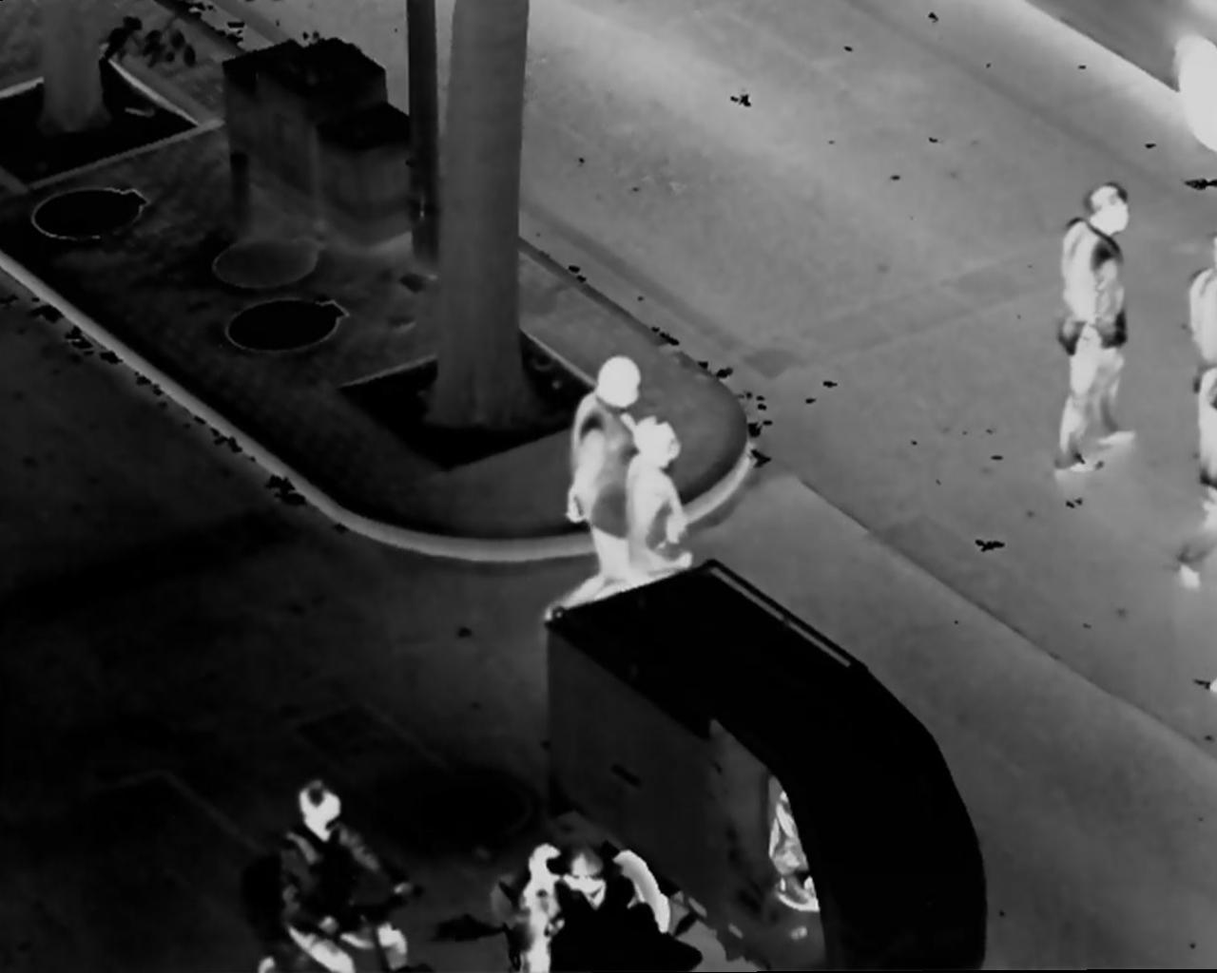person: (1053, 176, 1141, 486), (276, 773, 412, 973), (548, 355, 639, 620), (621, 417, 701, 578), (556, 838, 639, 973), (1177, 357, 1217, 587), (512, 846, 565, 973), (1181, 217, 1217, 388)
